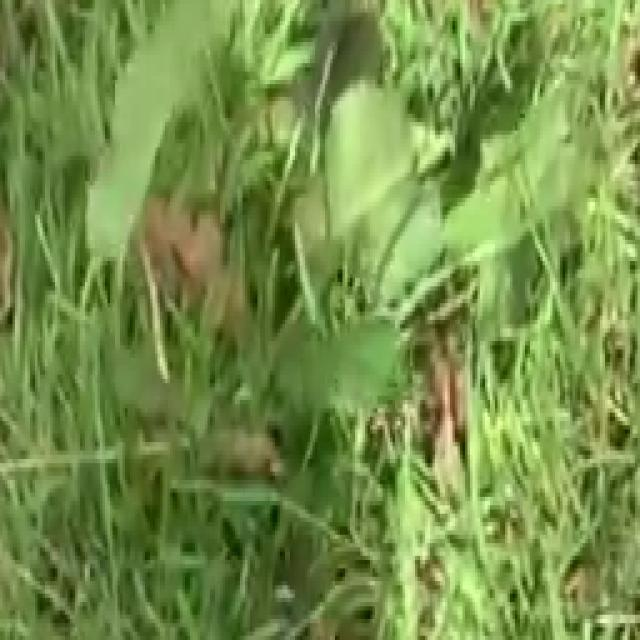organic waste: (92, 0, 607, 547)
